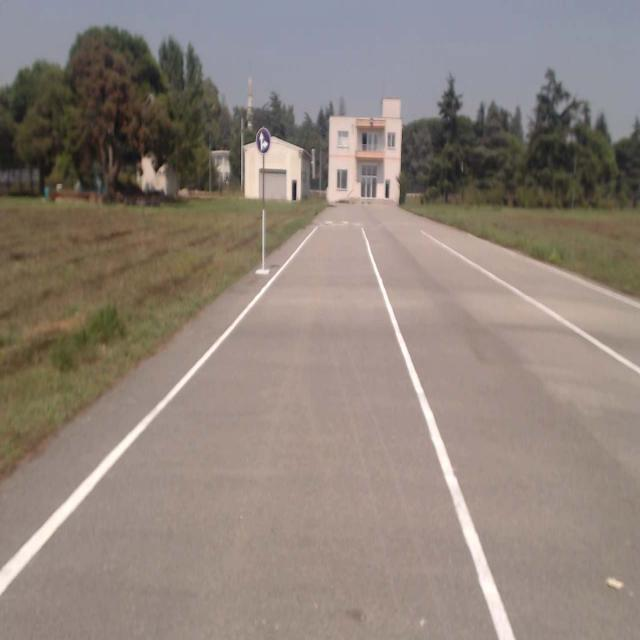ilerisag: (256, 127, 270, 153)
